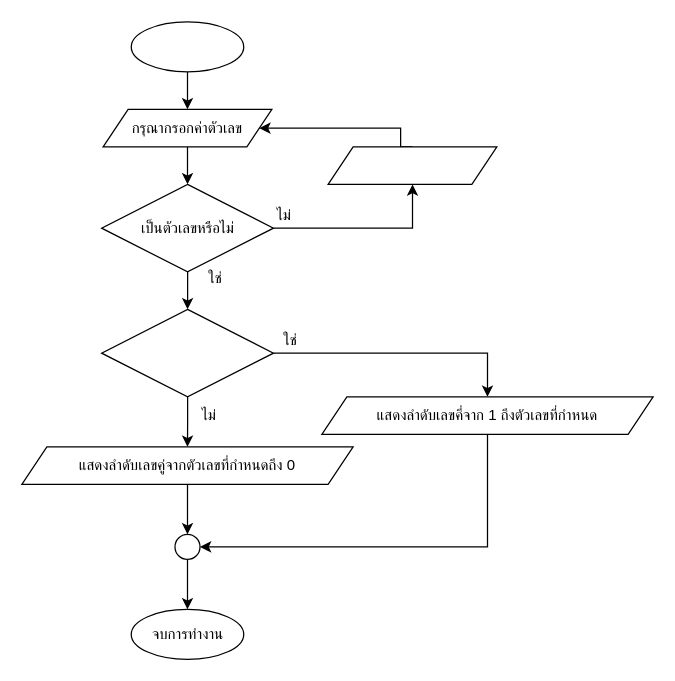
The diagram is 675 pixels wide and 681 high, and some of its shapes have lost their labels. Each missing label, with the centre of its shape:
"กรุณาใส่แต่ตัวเลข" goes at pixel 412 165.
"เป็นเลขคี่หรือไม่" goes at pixel 187 352.
"เริ่มต้น" goes at pixel 187 46.
